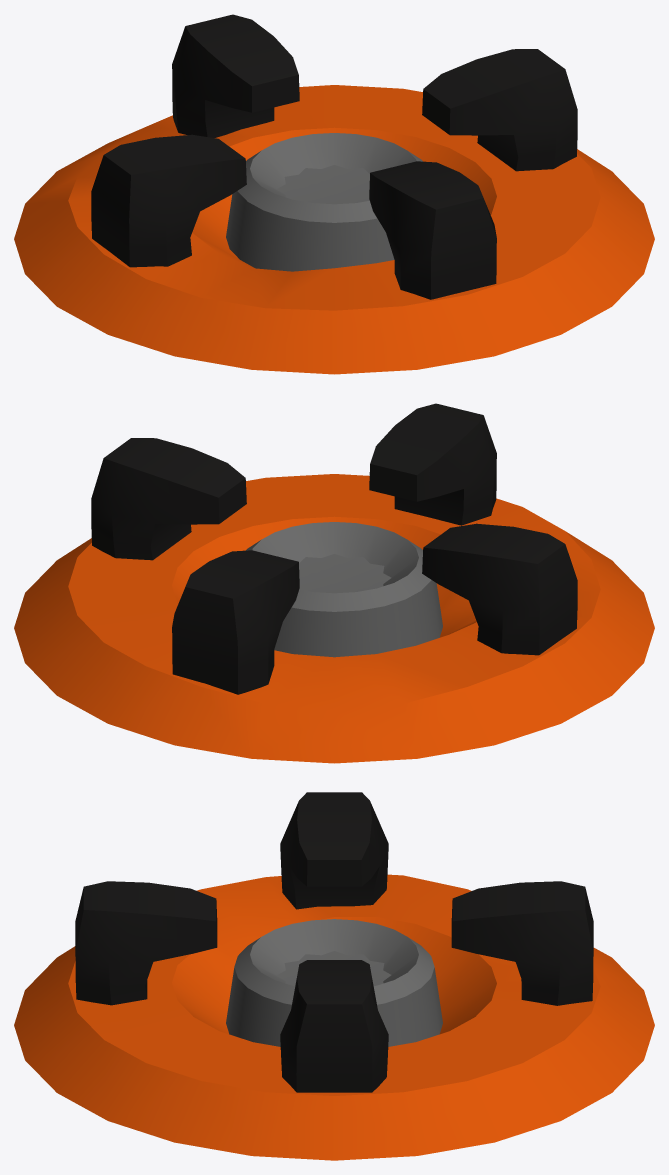
Rendered from Counter_Top_Burner_01_C02.fbx.
3 renders of one model, top to bottom at view 1: azimuth 30°, elevation 25°; view 2: azimuth 150°, elevation 25°; view 3: azimuth 270°, elevation 25°, orthographic.
Parts seen in each view (by area): view 1: Counter_Top_Burner_01_C02; view 2: Counter_Top_Burner_01_C02; view 3: Counter_Top_Burner_01_C02.
Boxes of the visible parts, <box> form: Counter_Top_Burner_01_C02: <box>14,14,654,374</box>; Counter_Top_Burner_01_C02: <box>14,403,654,763</box>; Counter_Top_Burner_01_C02: <box>14,792,654,1160</box>.
Bounding box in the file's own units: 73.2 × 18.75 × 73.2.
